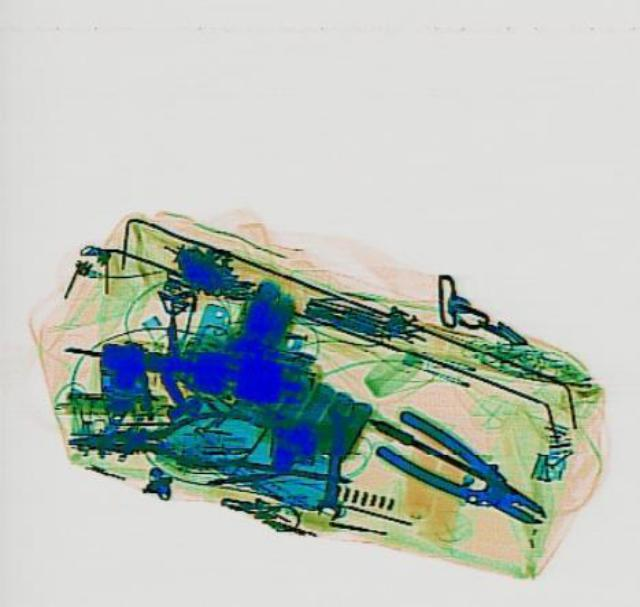Pliers: (370, 406, 560, 538), (67, 409, 263, 463)
Wrench: (309, 398, 357, 518)
